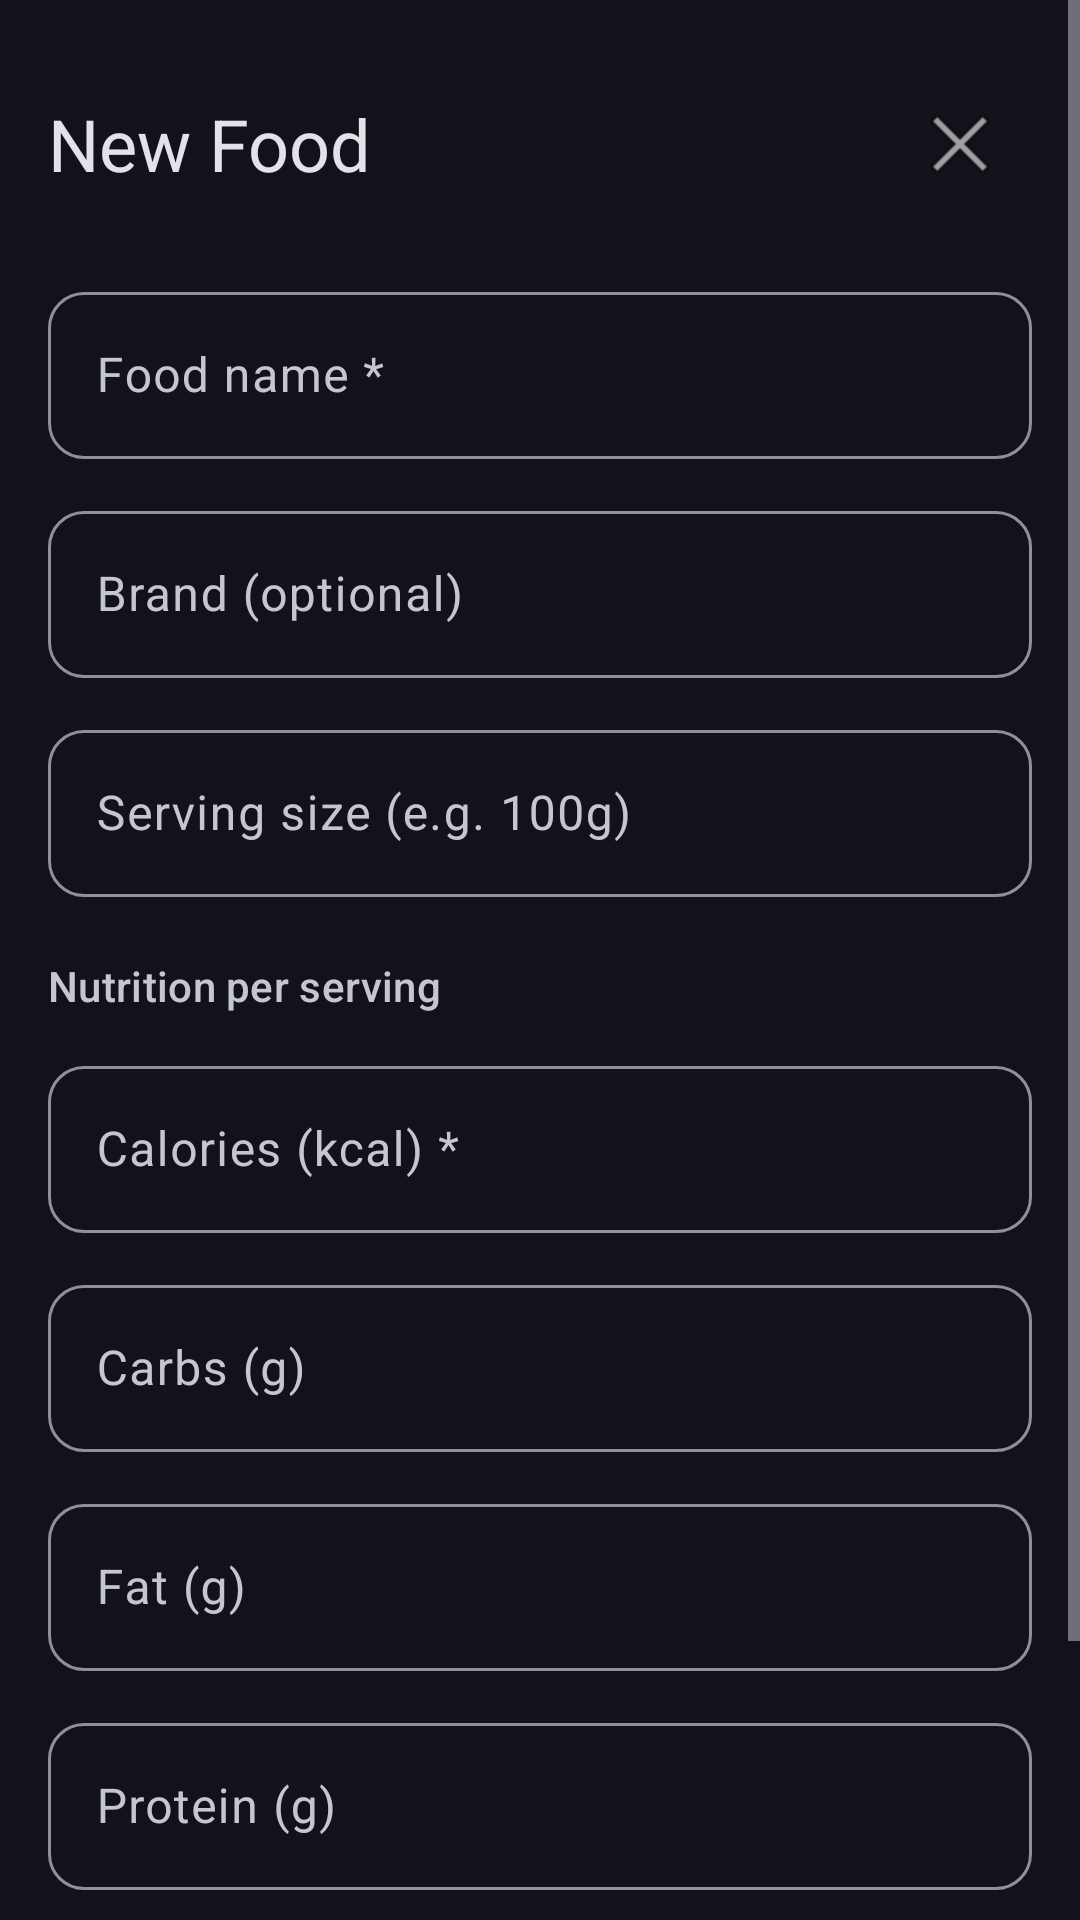

Icons on this 1080×1920 Android screen, each with its box as [left=x1, top=y1, right=x2, bottom=y2]:
Close: [left=933, top=117, right=987, bottom=171]
